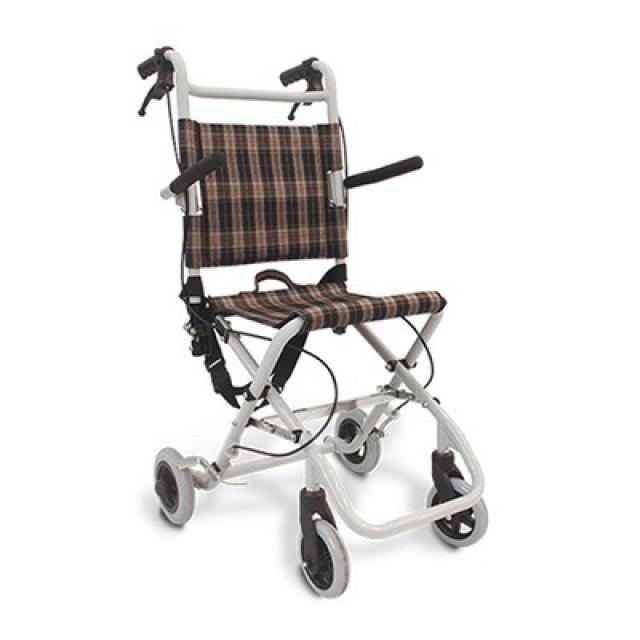wheelchair: (118, 27, 531, 610)
